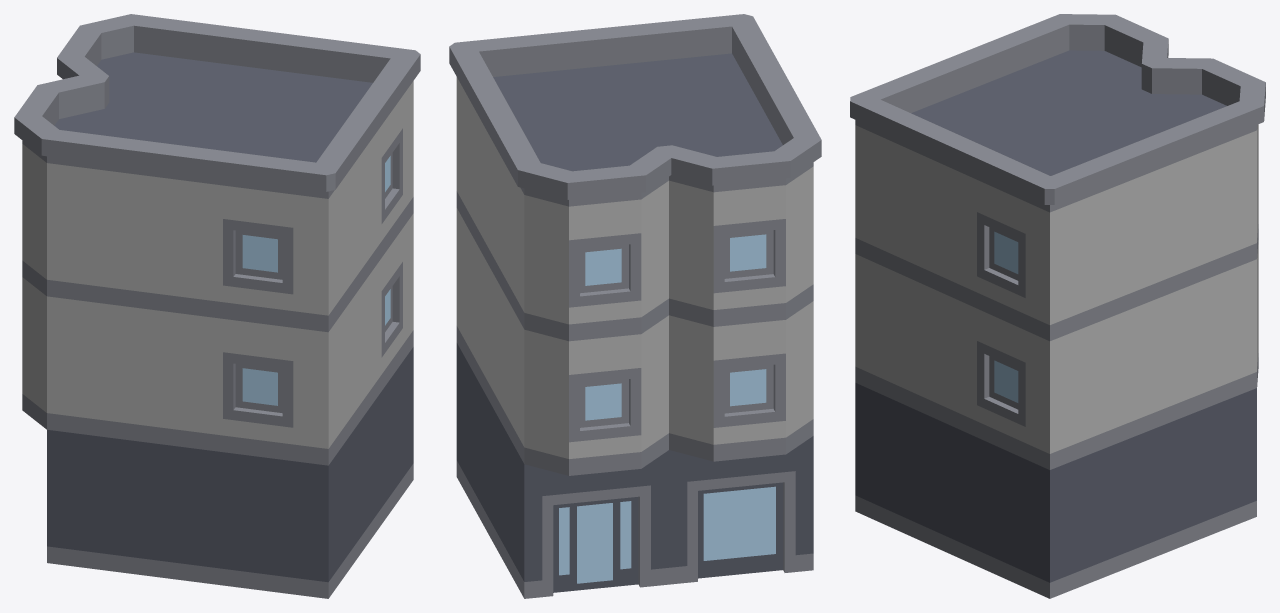
Rendered from variant_6.fbx.
The picture shows the model from 3 angles, left to right: view 1: azimuth 30°, elevation 25°; view 2: azimuth 150°, elevation 25°; view 3: azimuth 270°, elevation 25°; orthographic projection. The views are drawn at different scales.
Visible parts, largest first — view 1: small_buildingA; view 2: small_buildingA; view 3: small_buildingA.
Boxes of the visible parts, box(x1,y1,x2,y2) form: small_buildingA: box(14, 14, 420, 598); small_buildingA: box(449, 14, 821, 598); small_buildingA: box(850, 14, 1265, 598).
Bounding box in the file's own units: 117 × 128 × 117.
